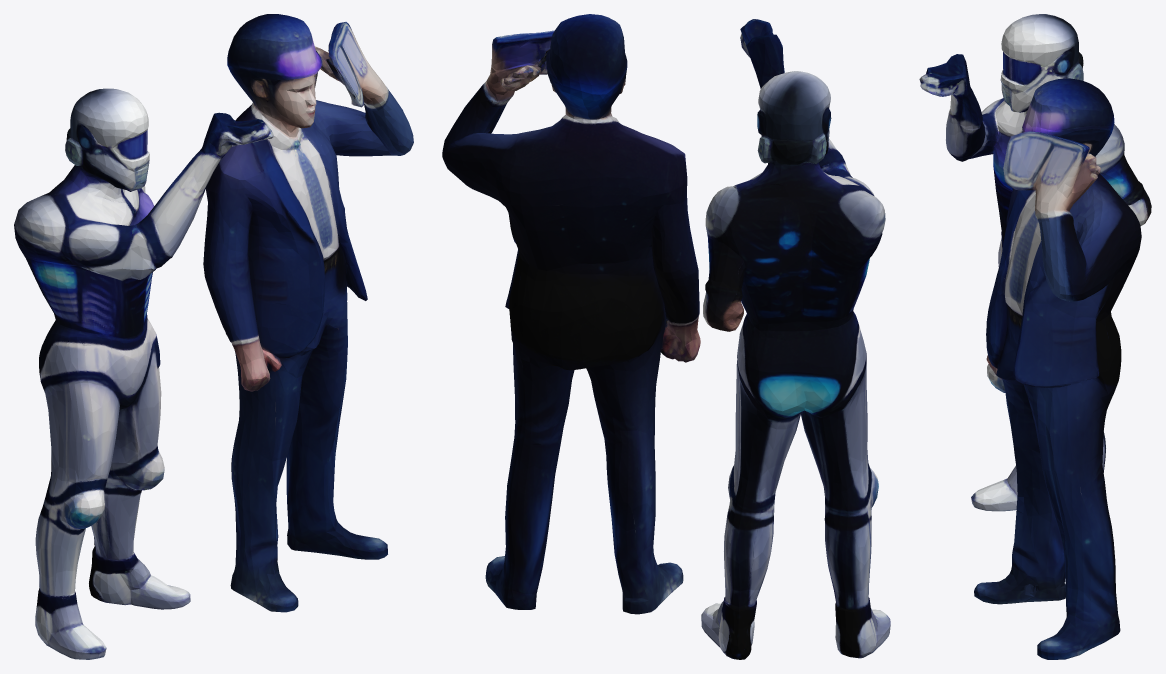
The model's file is roboman.glb.
3 renders of one model, left to right at view 1: azimuth 30°, elevation 25°; view 2: azimuth 150°, elevation 25°; view 3: azimuth 270°, elevation 25°, orthographic. The views are drawn at different scales.
Visible parts, largest first — view 1: world; view 2: world; view 3: world.
Part boxes in pixels (box(x1,y1,x2,y2)): world: box(14, 14, 413, 659); world: box(442, 14, 890, 659); world: box(919, 14, 1151, 659).
Size of the model in its own units: 0.7588 by 1 by 0.3968.
1 material, 1 textured.
